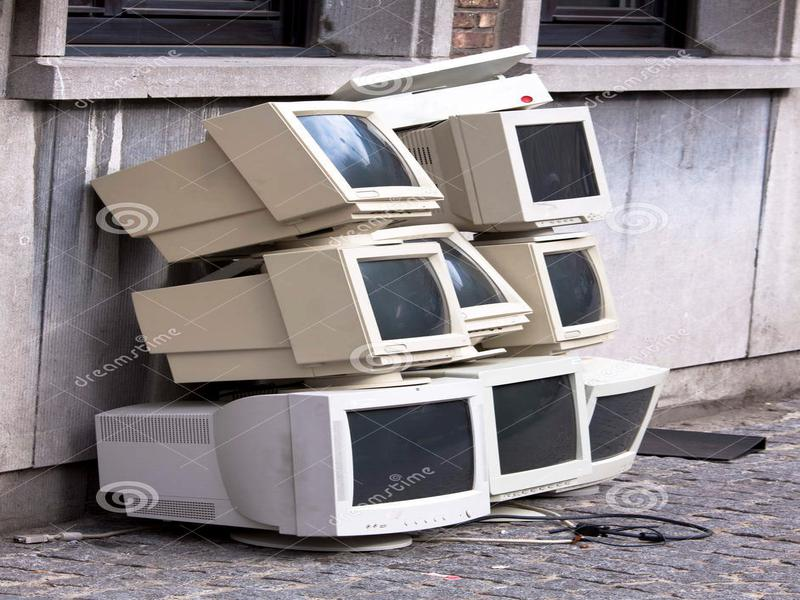tv_pc: (90, 381, 494, 552), (85, 98, 449, 259), (125, 240, 478, 387), (408, 100, 616, 234), (478, 362, 597, 504), (489, 237, 621, 356), (580, 352, 667, 490)
